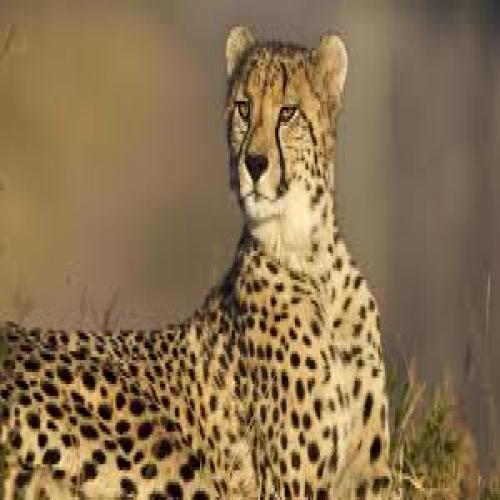cheetah-endangered: (0, 18, 388, 500)
